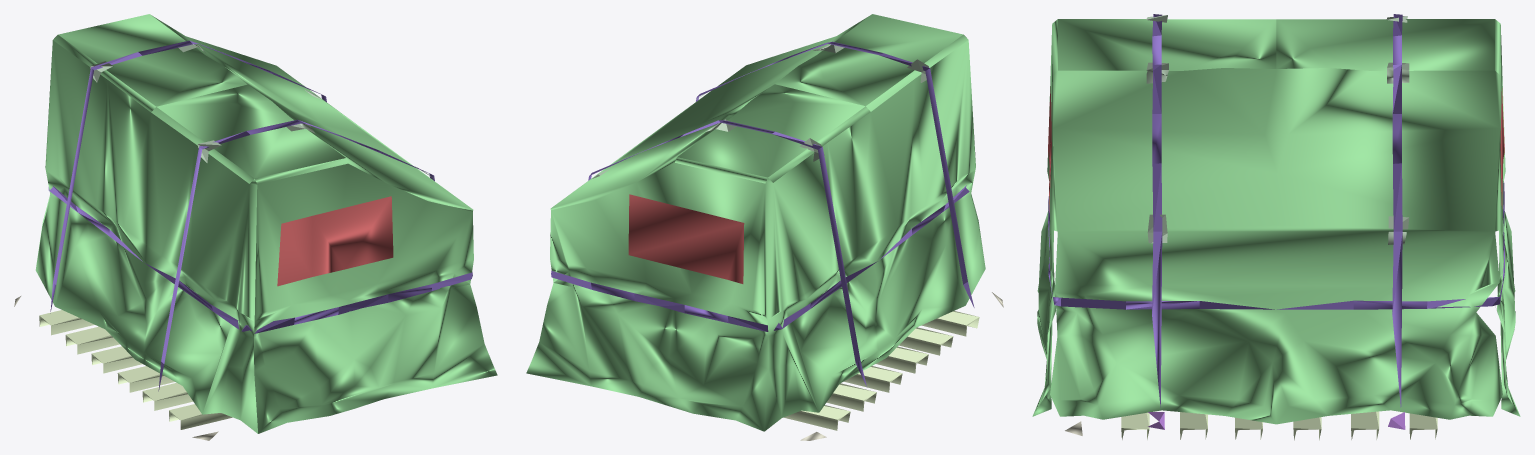
File: prop_crate_dumper_tarp_c_lod5.glb
3 renders of one model, left to right at view 1: azimuth 30°, elevation 25°; view 2: azimuth 150°, elevation 25°; view 3: azimuth 270°, elevation 25°, orthographic. The views are drawn at different scales.
Size of the model in its own units: 3.1 by 2.55 by 3.81.
